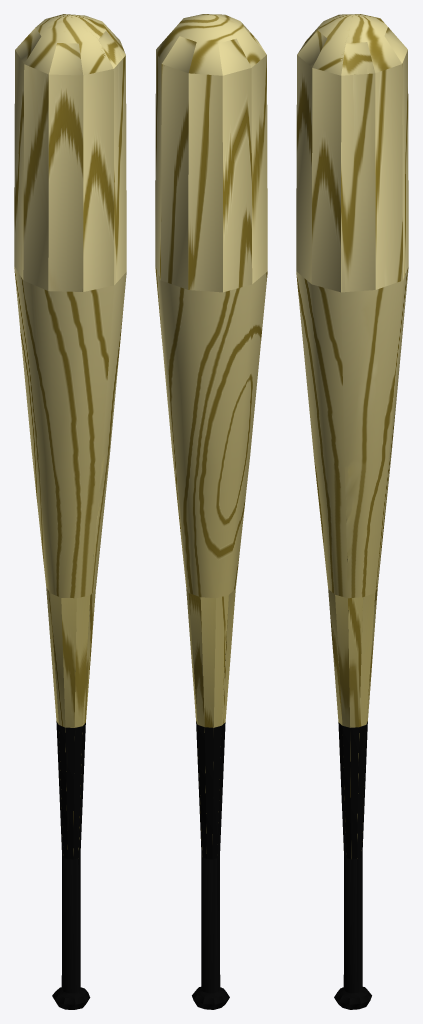
File: bat_weapon.FBX
The picture shows the model from 3 angles, left to right: view 1: azimuth 30°, elevation 25°; view 2: azimuth 210°, elevation 25°; view 3: azimuth 330°, elevation 25°; orthographic projection.
Parts seen in each view (by area): view 1: Cylinder001; view 2: Cylinder001; view 3: Cylinder001.
Boxes of the visible parts, x1,y1,x2,y2 form: Cylinder001: (14,14,126,1009); Cylinder001: (155,14,267,1009); Cylinder001: (296,14,408,1009).
Size of the model in its own units: 8.77 by 84.87 by 8.63.
1 material, 1 textured.
